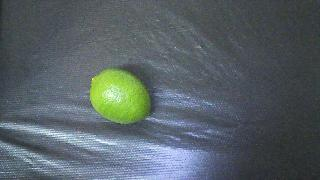LOCAL: (89, 68, 151, 124)
